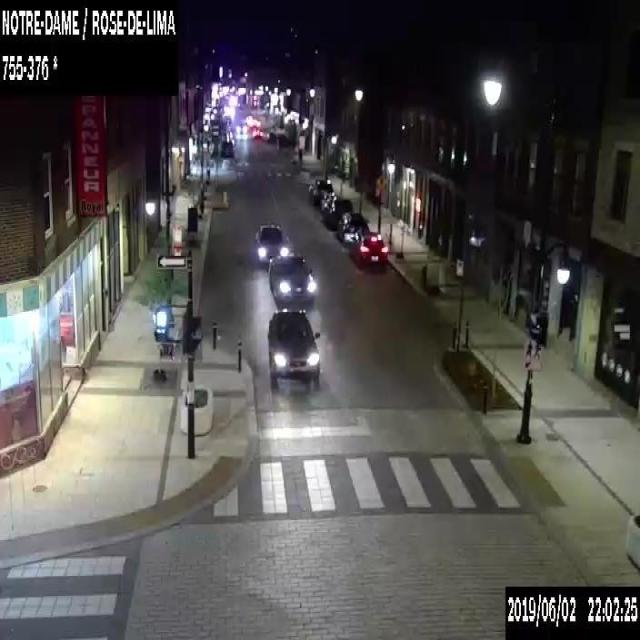vehicle: (266, 309, 319, 386), (268, 255, 314, 307), (348, 231, 387, 268), (254, 223, 288, 262), (320, 190, 352, 230), (338, 212, 368, 243), (308, 178, 331, 207), (220, 140, 233, 157), (236, 121, 247, 132)
